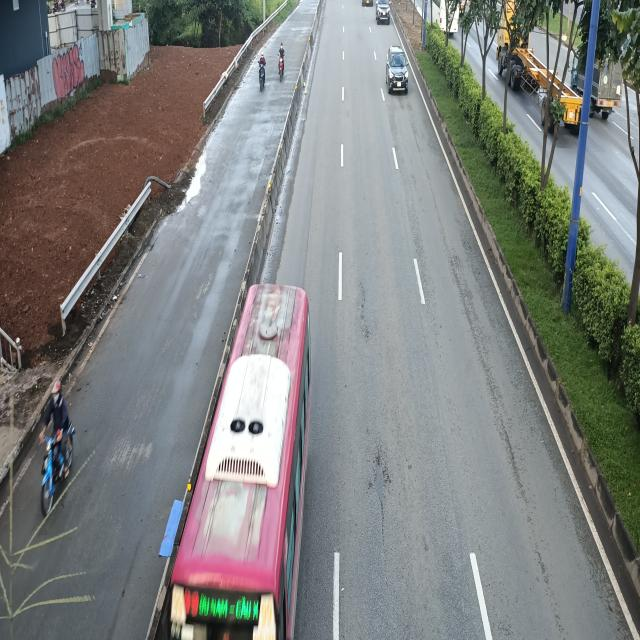car: (384, 46, 408, 94)
coach: (153, 279, 321, 636)
